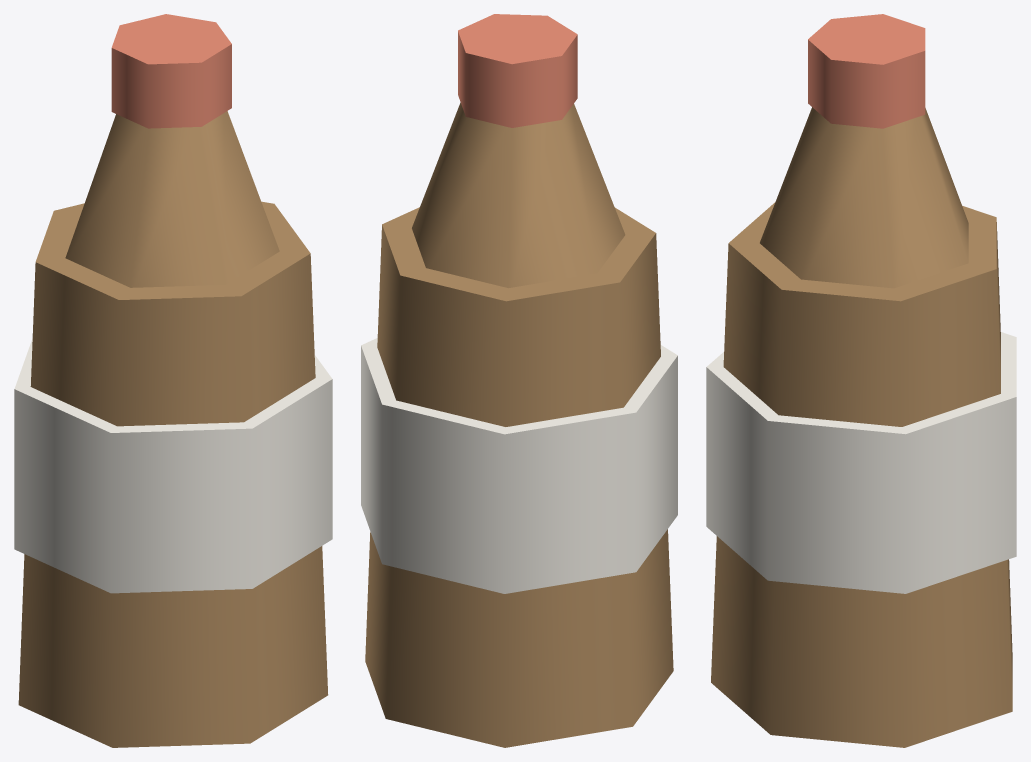
The model's file is fishsauce.glb.
3 renders of one model, left to right at view 1: azimuth 30°, elevation 25°; view 2: azimuth 150°, elevation 25°; view 3: azimuth 270°, elevation 25°, orthographic.
Visible parts, largest first — view 1: fishsauce; view 2: fishsauce; view 3: fishsauce.
Boxes of the visible parts, bbox=[...] form: fishsauce: bbox=[14, 14, 332, 747]; fishsauce: bbox=[361, 14, 677, 747]; fishsauce: bbox=[706, 14, 1016, 747].
Size of the model in its own units: 0.3607 by 0.805 by 0.3517.
